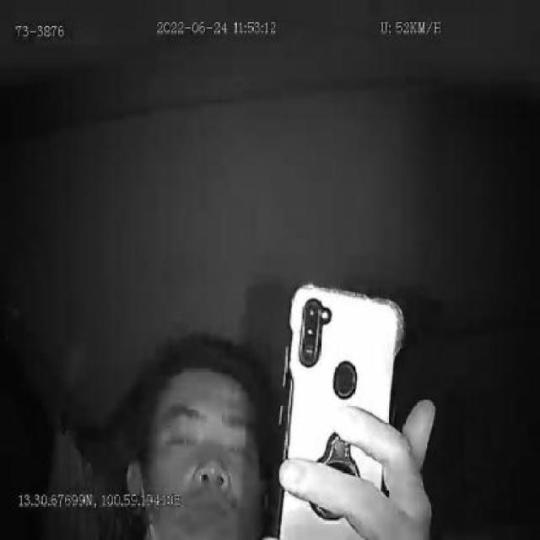phone: (272, 276, 402, 540)
